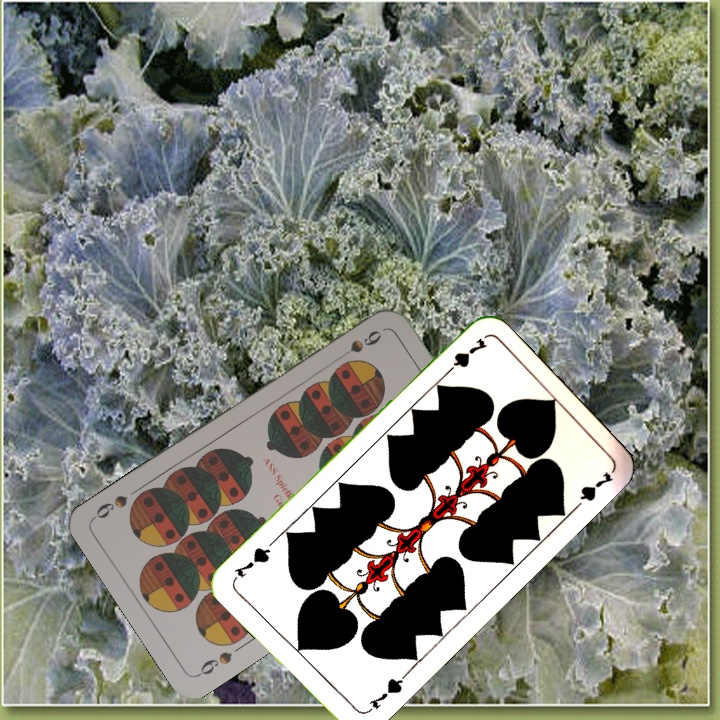G7: (439, 334, 490, 380), (362, 670, 409, 716)
S9: (332, 326, 385, 363), (193, 647, 235, 679)
